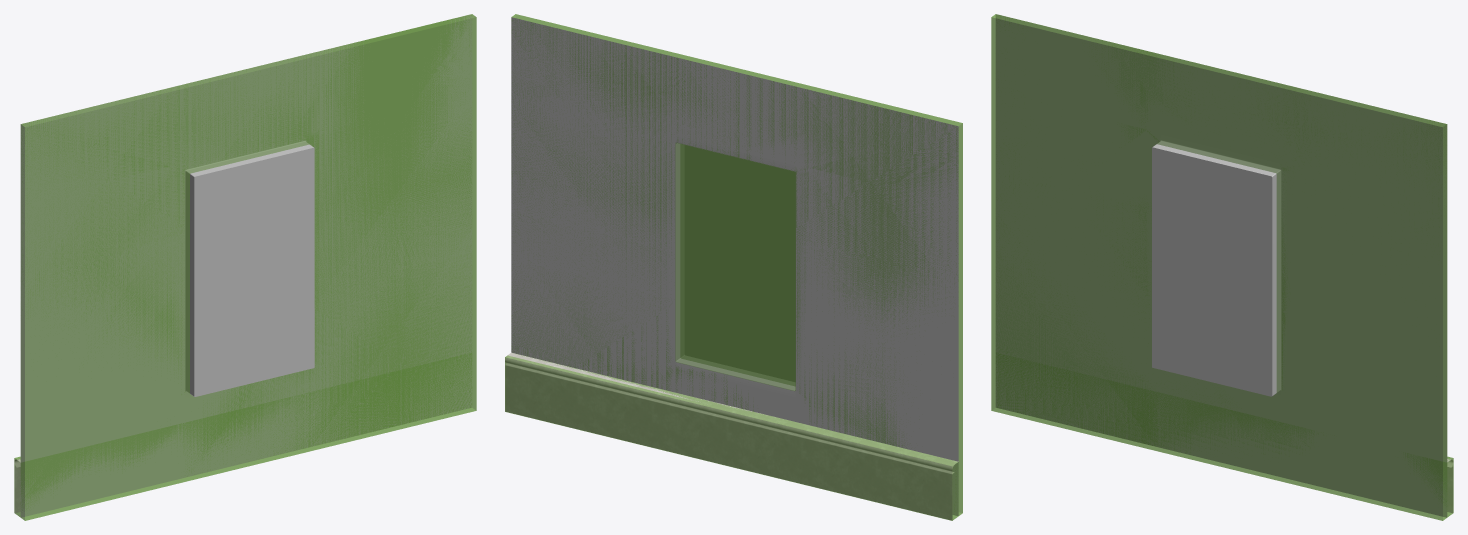
The model's file is F3_md_StreetWall_5x6_WL_01.fbx.
The picture shows the model from 3 angles, left to right: view 1: azimuth 30°, elevation 25°; view 2: azimuth 150°, elevation 25°; view 3: azimuth 330°, elevation 25°; orthographic projection.
Parts seen in each view (by area): view 1: F3_md_StreetWall_5x6_WL_01_LOD0, F3_md_StreetWall_5x6_WL_01_col_02, F3_md_StreetWall_5x6_WL_01_col_01; view 2: F3_md_StreetWall_5x6_WL_01_LOD0, F3_md_StreetWall_5x6_WL_01_col_02, F3_md_StreetWall_5x6_WL_01_col_01; view 3: F3_md_StreetWall_5x6_WL_01_LOD0, F3_md_StreetWall_5x6_WL_01_col_02, F3_md_StreetWall_5x6_WL_01_col_01.
Boxes of the visible parts, box(x1,y1,x2,y2) form: F3_md_StreetWall_5x6_WL_01_LOD0: box(14, 14, 472, 517); F3_md_StreetWall_5x6_WL_01_col_02: box(20, 14, 476, 520); F3_md_StreetWall_5x6_WL_01_col_01: box(14, 353, 471, 517); F3_md_StreetWall_5x6_WL_01_LOD0: box(505, 17, 958, 520); F3_md_StreetWall_5x6_WL_01_col_02: box(511, 14, 962, 515); F3_md_StreetWall_5x6_WL_01_col_01: box(505, 354, 958, 520); F3_md_StreetWall_5x6_WL_01_LOD0: box(995, 14, 1453, 517); F3_md_StreetWall_5x6_WL_01_col_02: box(991, 14, 1447, 520); F3_md_StreetWall_5x6_WL_01_col_01: box(996, 353, 1453, 517).
Size of what is drawn, in the model's own units: 600 by 500 by 34.72.
